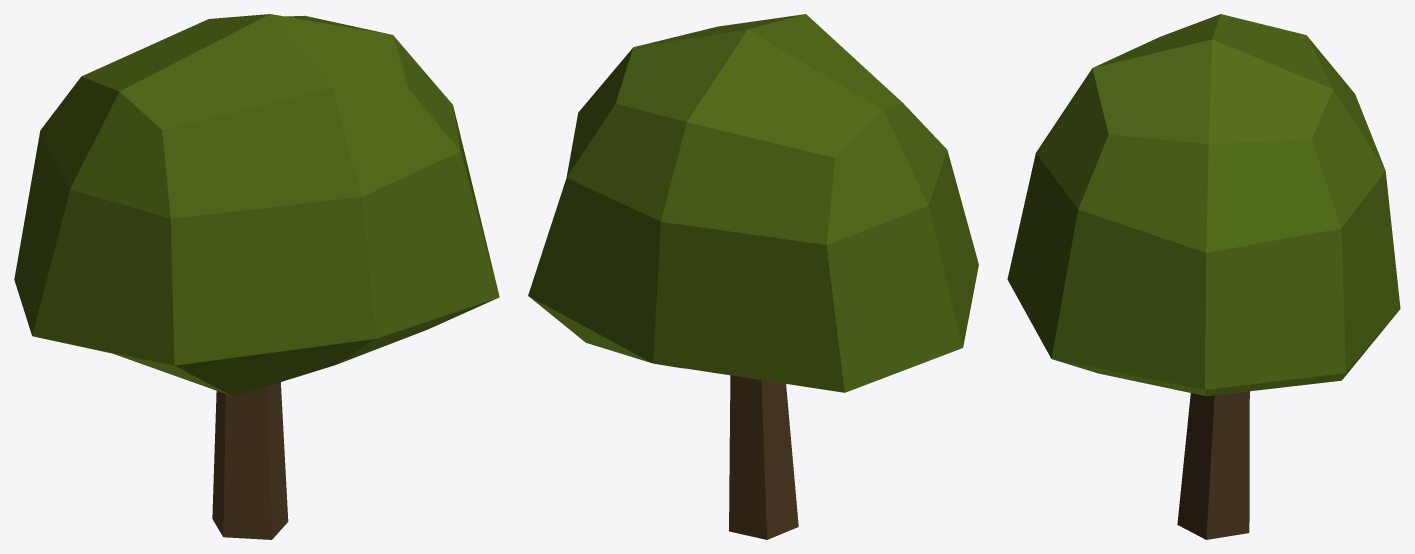
Rendered from TreesAndBushes_038.fbx.
3 renders of one model, left to right at view 1: azimuth 30°, elevation 25°; view 2: azimuth 150°, elevation 25°; view 3: azimuth 270°, elevation 25°, orthographic. The views are drawn at different scales.
Visible parts, largest first — view 1: TreesAndBushes_038; view 2: TreesAndBushes_038; view 3: TreesAndBushes_038.
Part boxes in pixels (bbox=[...]): TreesAndBushes_038: bbox=[14, 14, 499, 539]; TreesAndBushes_038: bbox=[528, 14, 978, 539]; TreesAndBushes_038: bbox=[1007, 14, 1400, 539].
Bounding box in the file's own units: 40.32 × 45.24 × 32.66.
